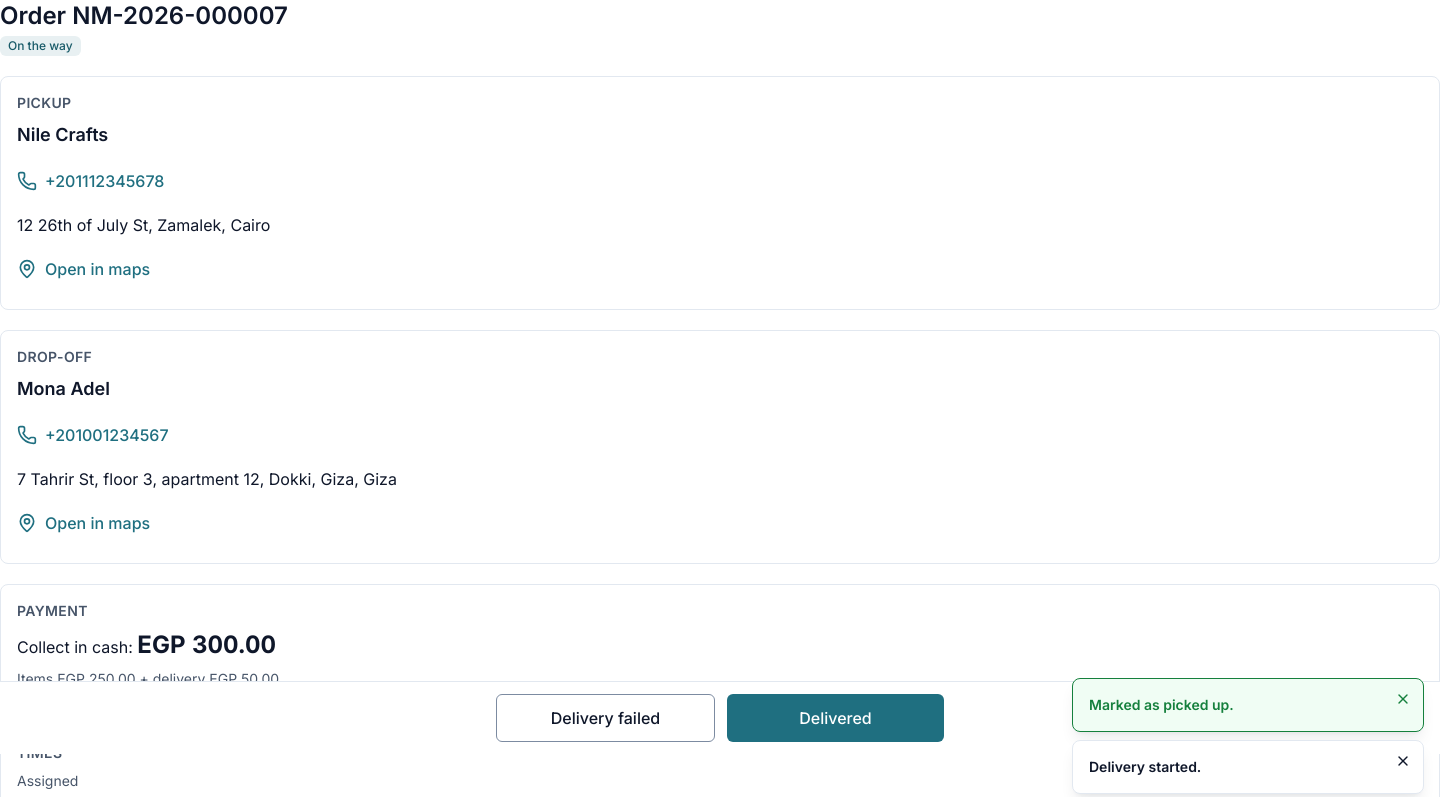
shipment (spec 04 AG-05) › delivery failed: reason required, consequence stated, note omitted when empty
This screenshot has width=1440, height=797.
Click the button "Delivery failed" at (606, 718), box left=496, top=694, right=715, bottom=742
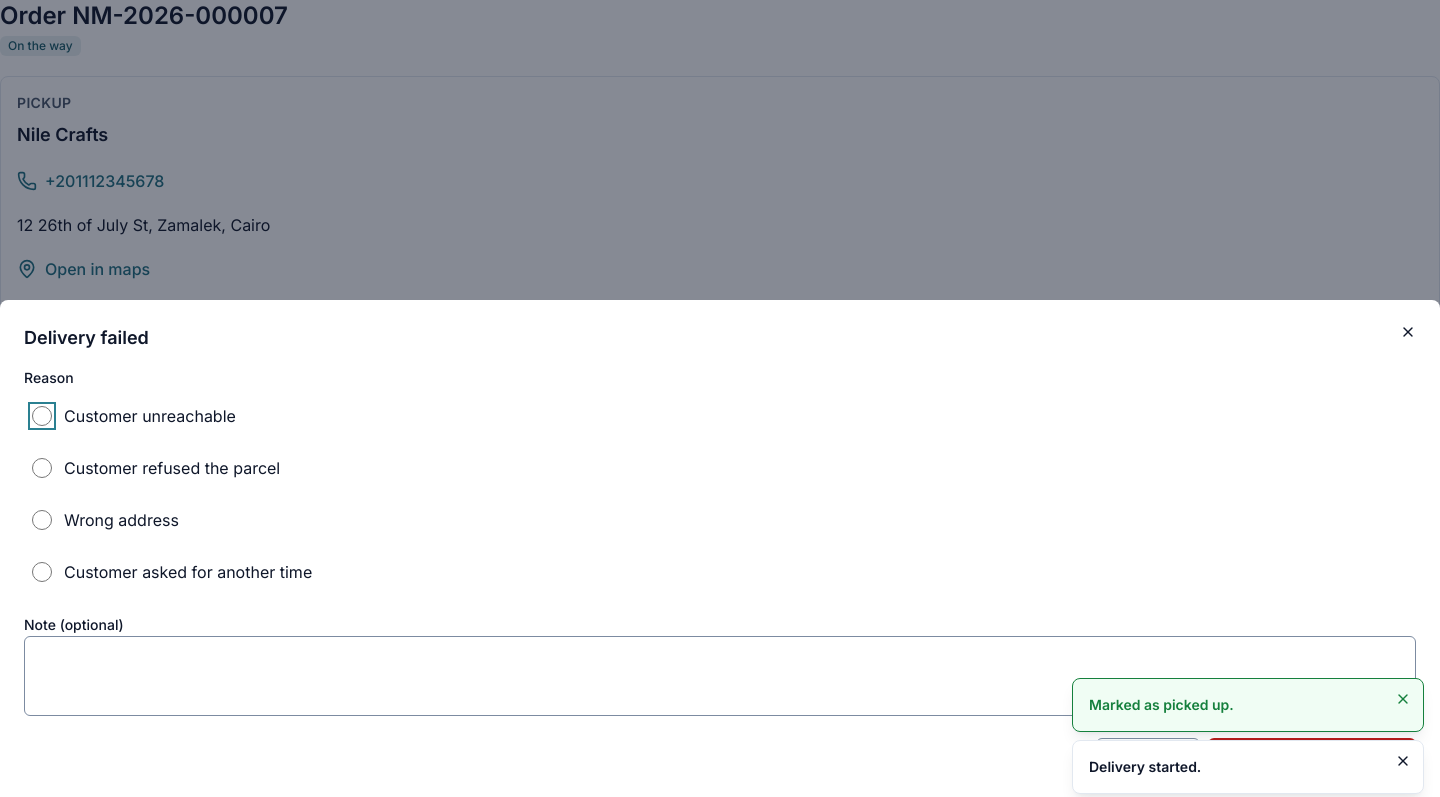
Click the button "Report failed attempt" at (1312, 762), box left=1208, top=738, right=1416, bottom=786
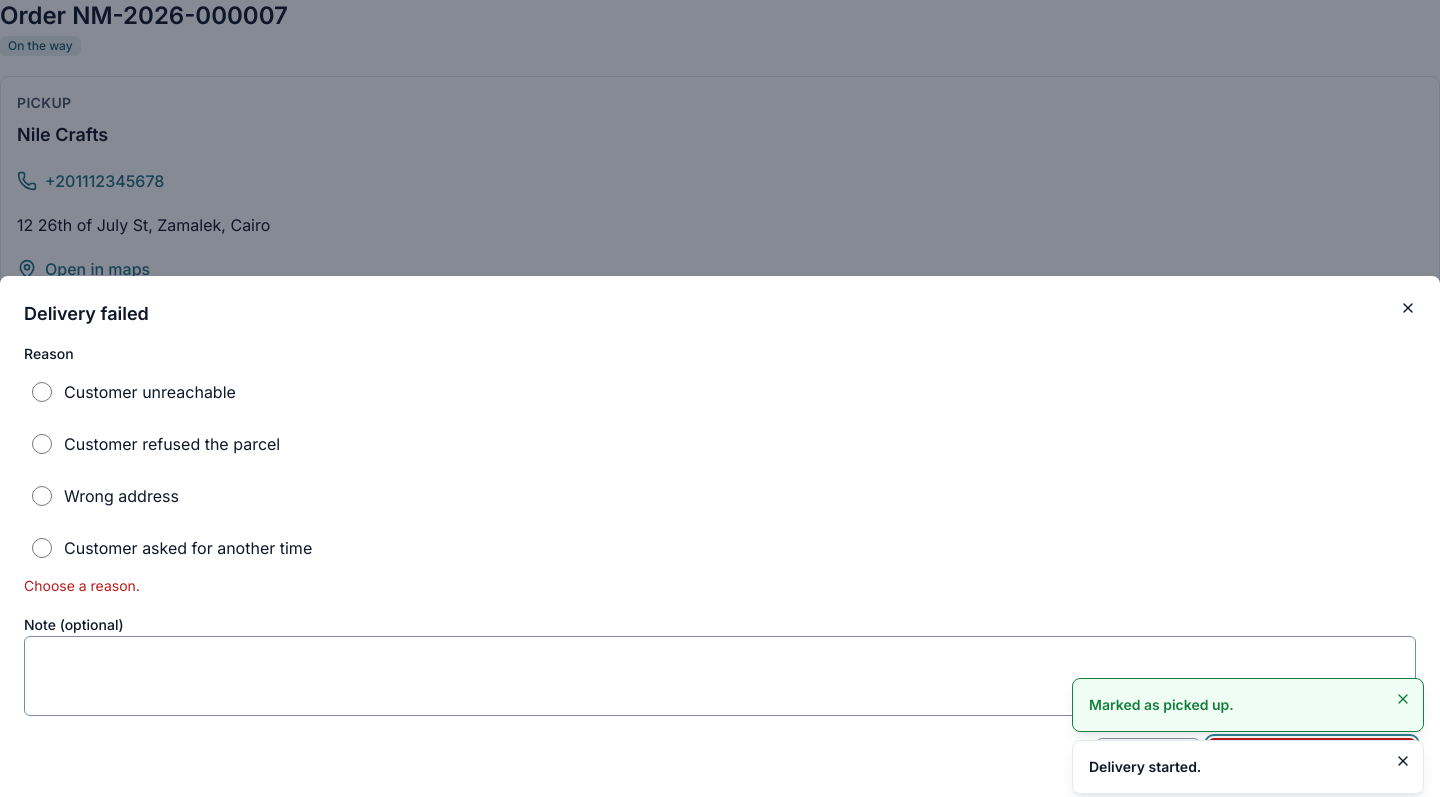
Expected: the text "Choose a reason." is shown, left=24, top=577, right=140, bottom=594
Click the radio button labelled "Customer unreachable" at (42, 392), box left=32, top=382, right=52, bottom=402
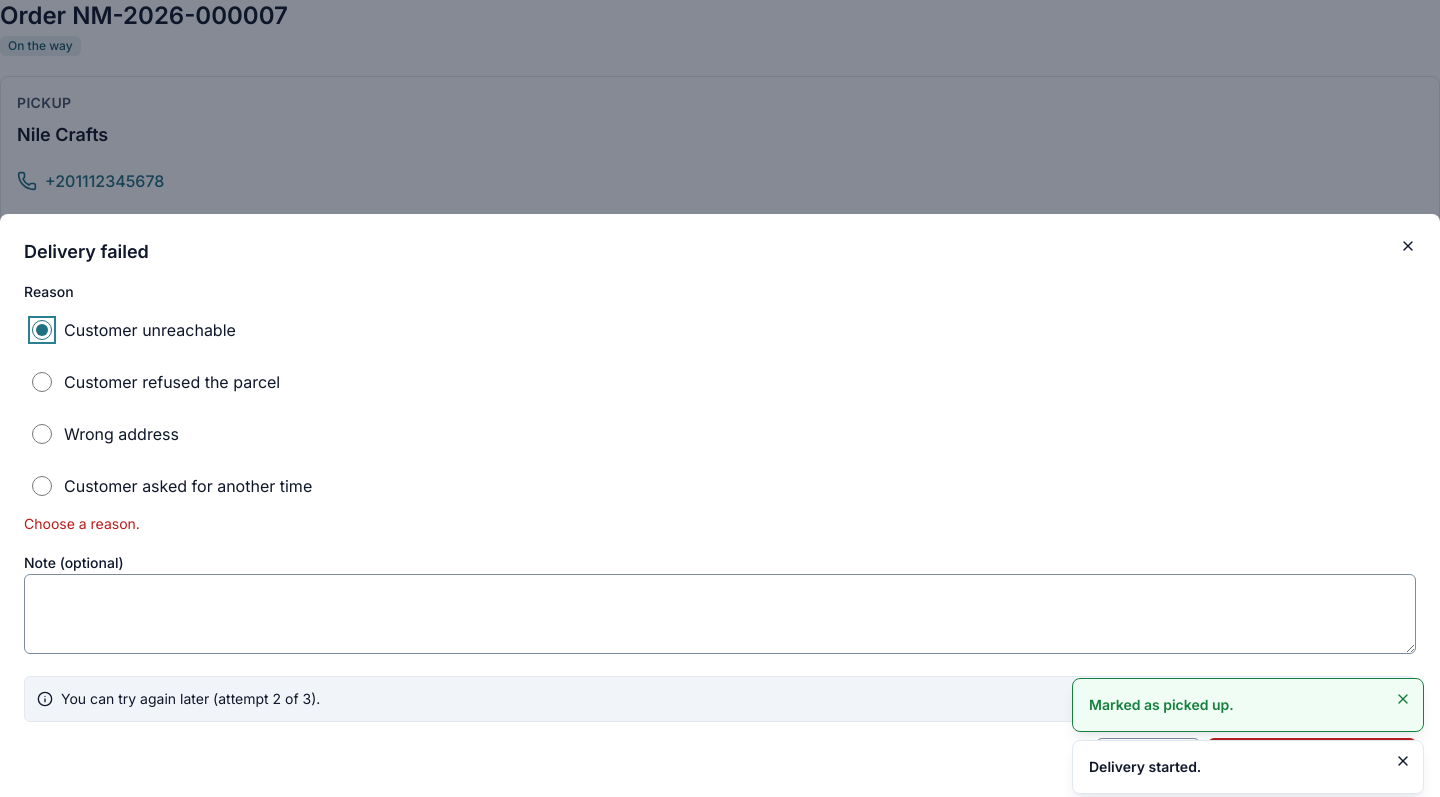
Expected: the text "You can try again later (attempt 2 of 3)." is shown, left=61, top=689, right=320, bottom=709
Click the radio button labelled "Customer refused the parcel" at (42, 382), box left=32, top=372, right=52, bottom=392
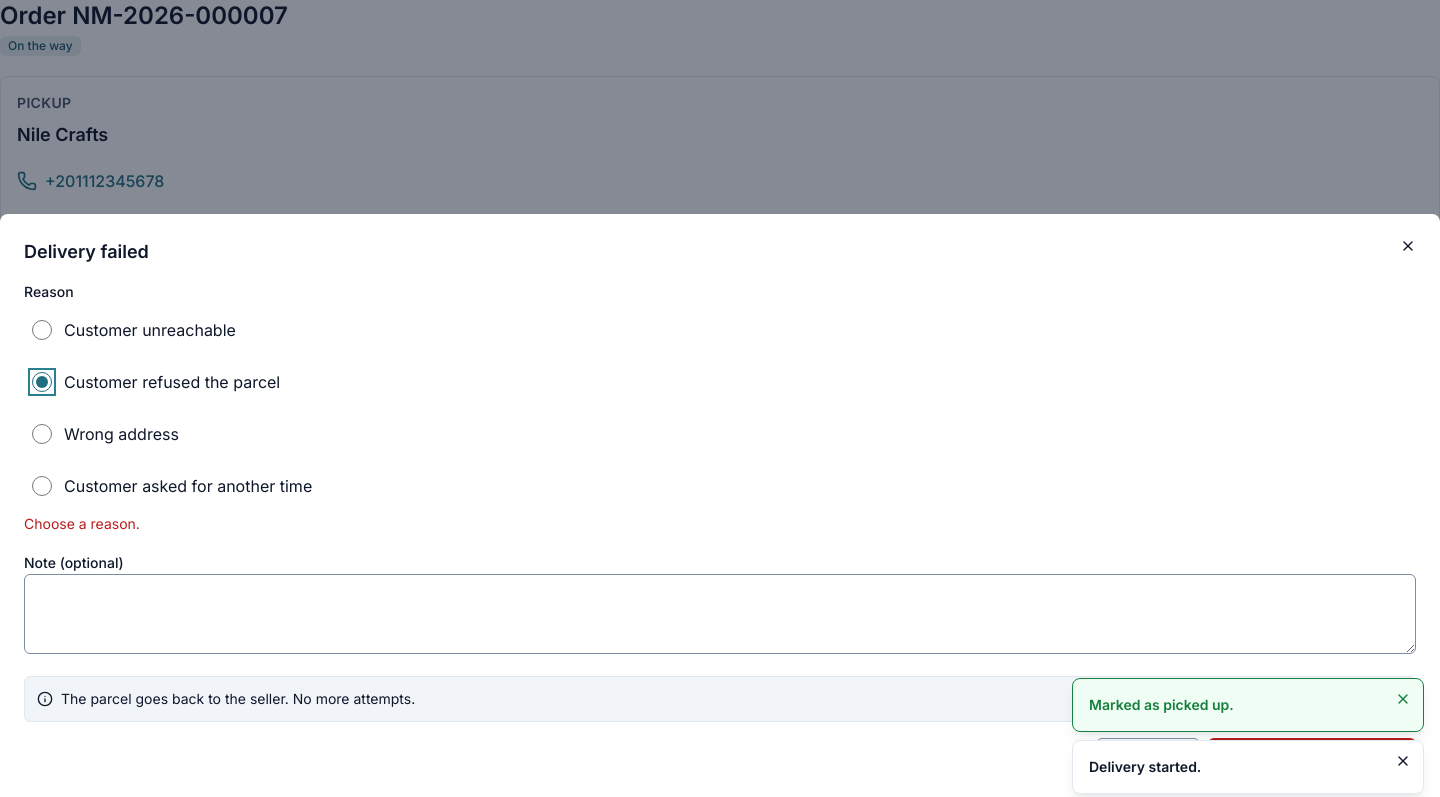
Expected: the text "The parcel goes back to the seller. No more attempts." is shown, left=61, top=689, right=415, bottom=709
Click the radio button labelled "Wrong address" at (42, 434), box left=32, top=424, right=52, bottom=444
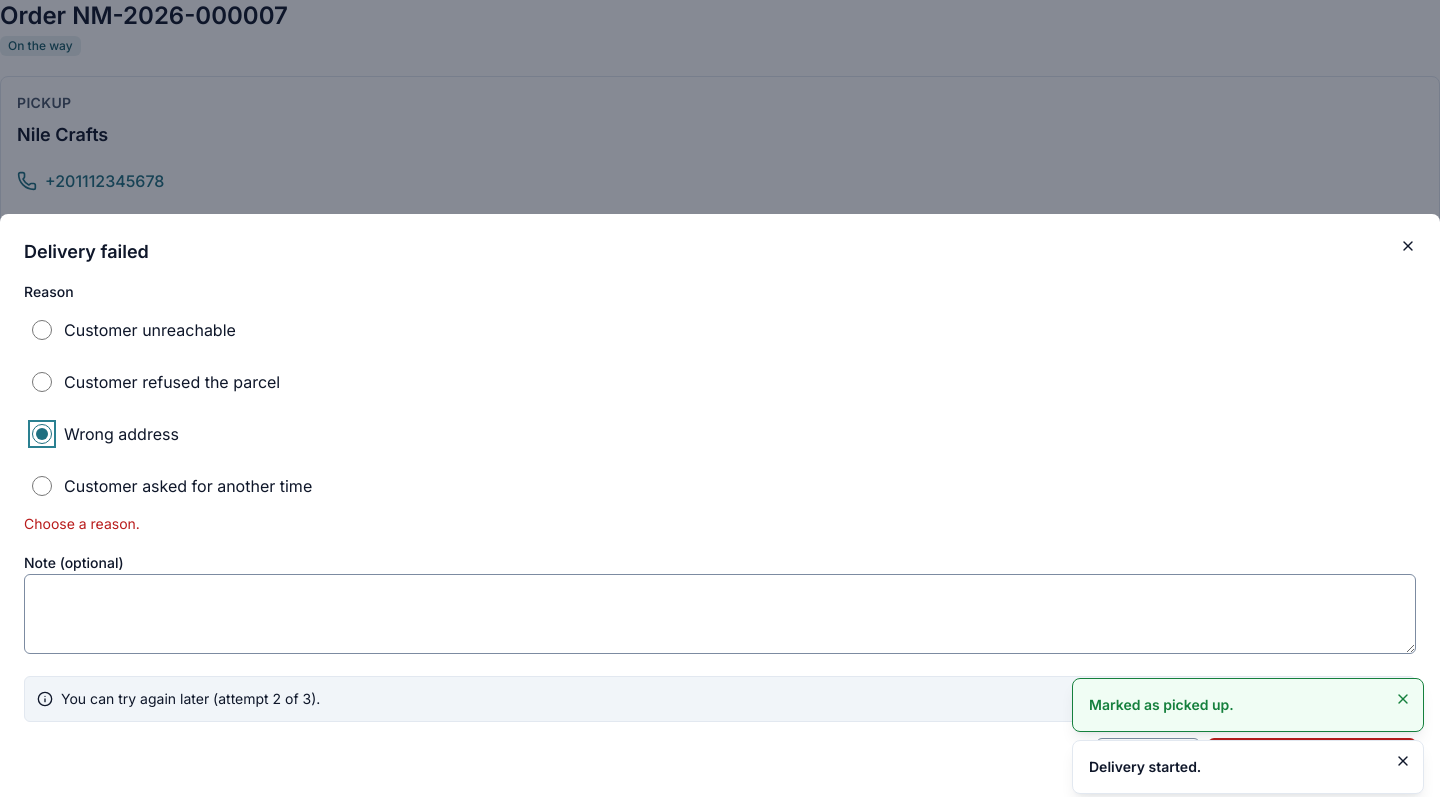
Click the button "Report failed attempt" at (1312, 762), box left=1208, top=738, right=1416, bottom=786
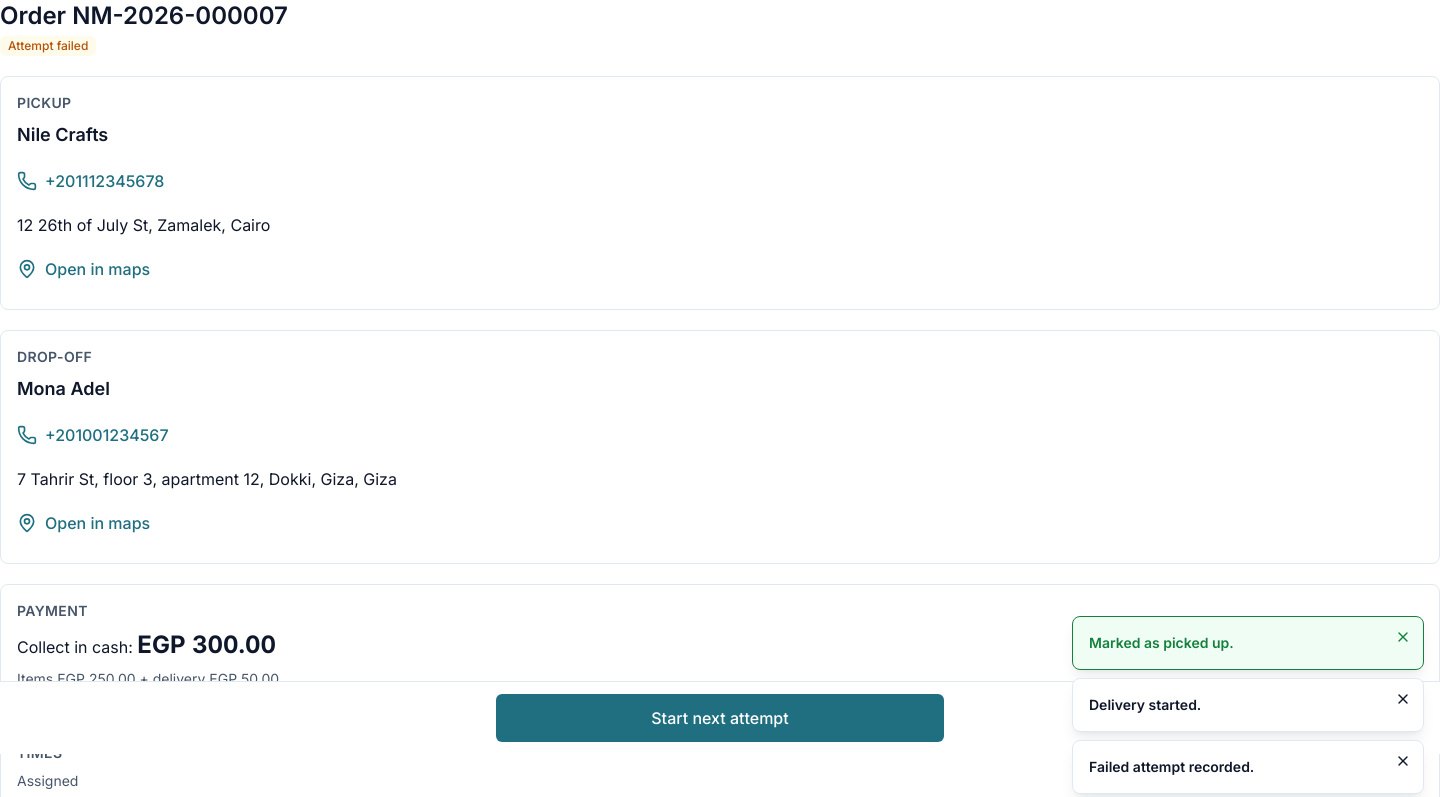
Expected: the text "Failed attempt recorded." is shown, left=1089, top=758, right=1254, bottom=775
